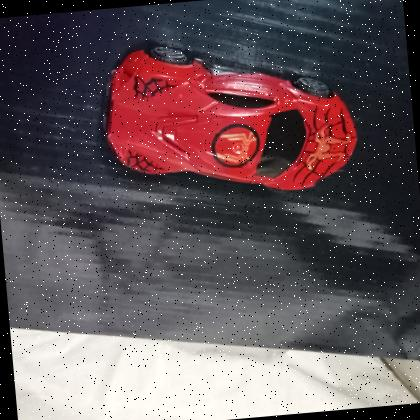Car: (88, 20, 370, 212)
